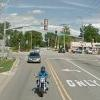Motorcycle: (30, 63, 57, 100)
